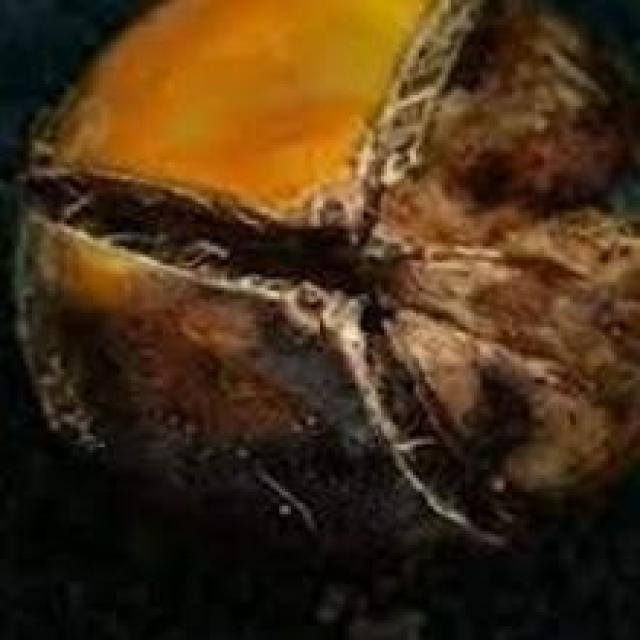damaged: (23, 0, 637, 576)
